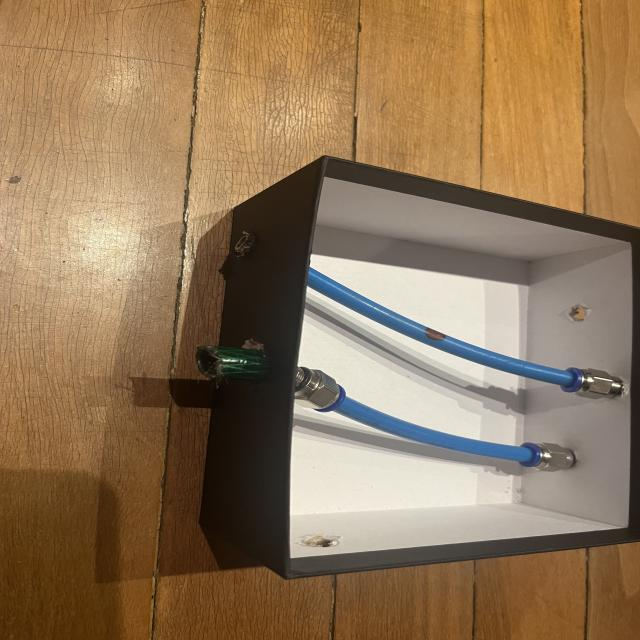hose_damage: (423, 325, 449, 344)
